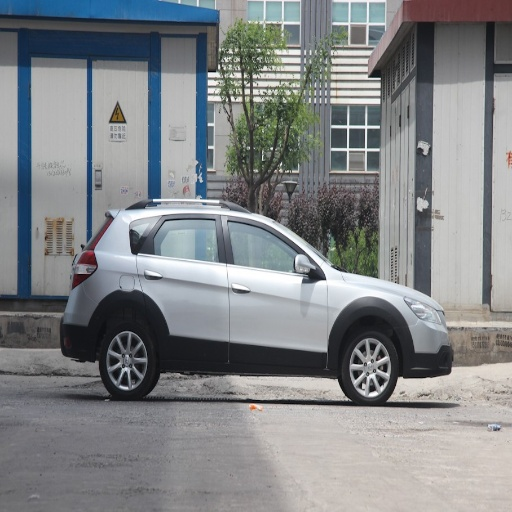back_right_door: (135, 212, 227, 366)
front_right_door: (223, 213, 326, 368)
